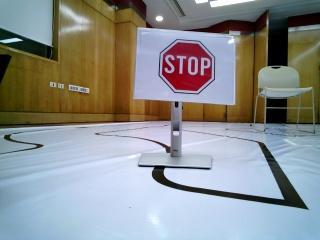stop: (134, 32, 234, 92)
